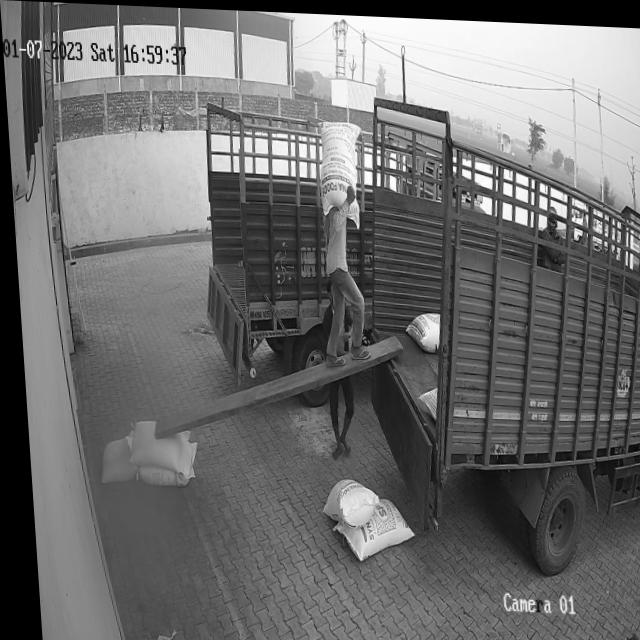sack: (325, 492, 408, 559), (314, 117, 363, 224), (126, 437, 192, 486), (122, 419, 184, 471), (314, 475, 373, 525), (91, 434, 131, 484)
